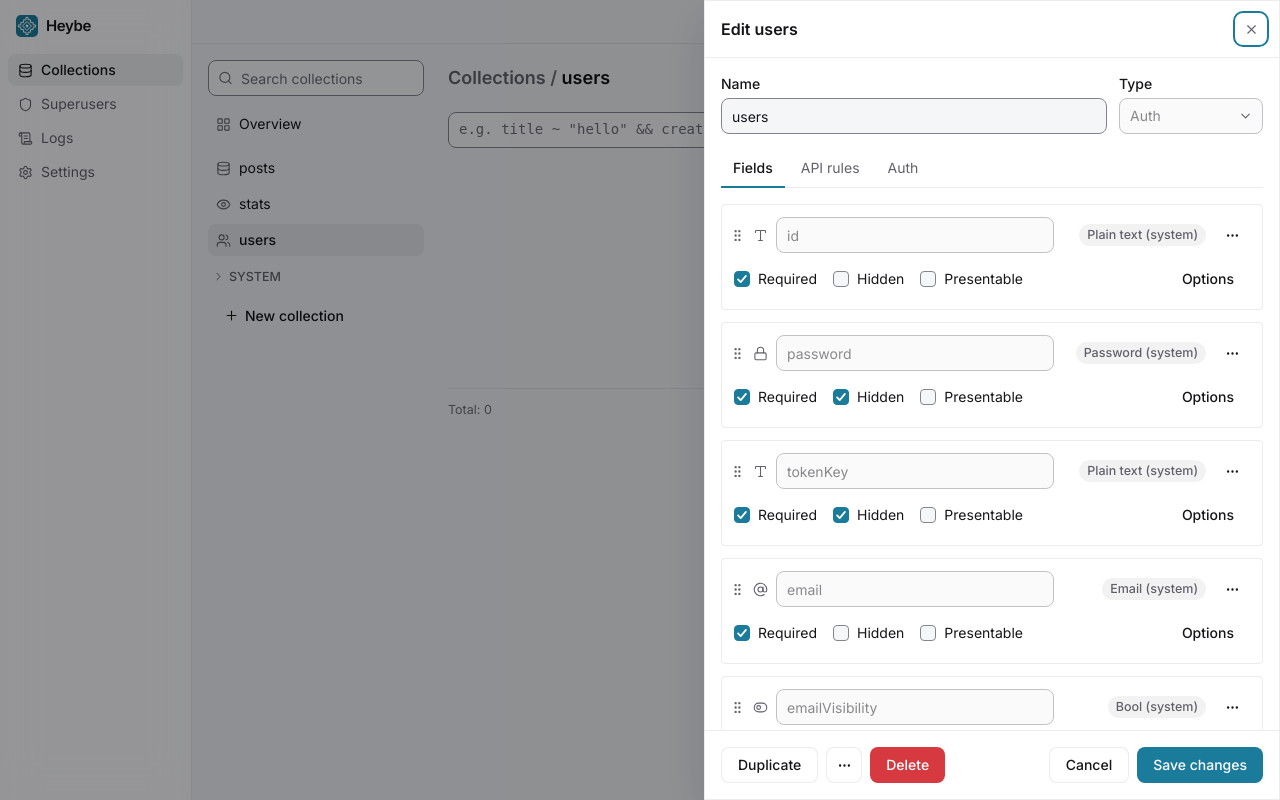
Scenario: editing a provider without typing a secret sends no clientSecret key
The width and height of the screenshot is (1280, 800).
Earlier steps of the test are not shown.
Later steps or results of the test are not shown.
Click the tab "Auth": (903, 169) [876, 150, 930, 188]
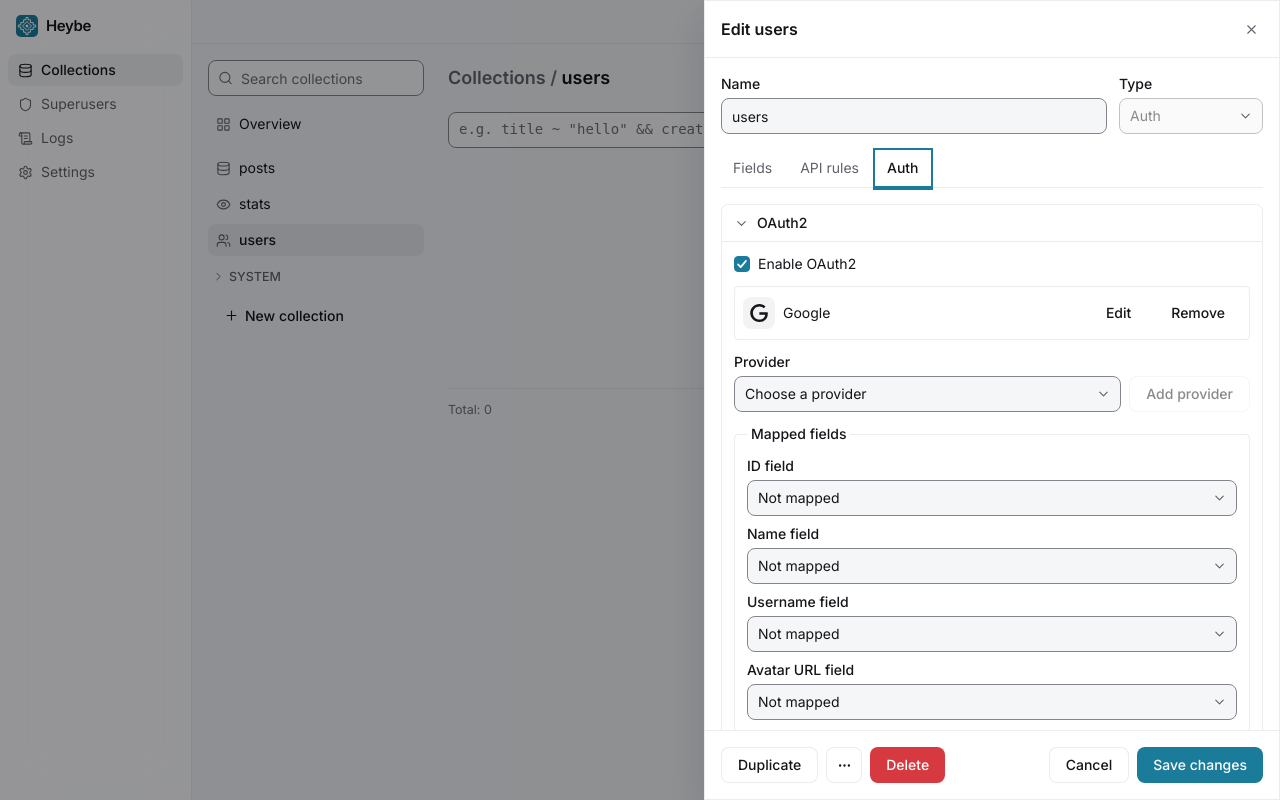
Click the button with aria-label "Edit provider Google": (1119, 313) [1090, 295, 1147, 331]
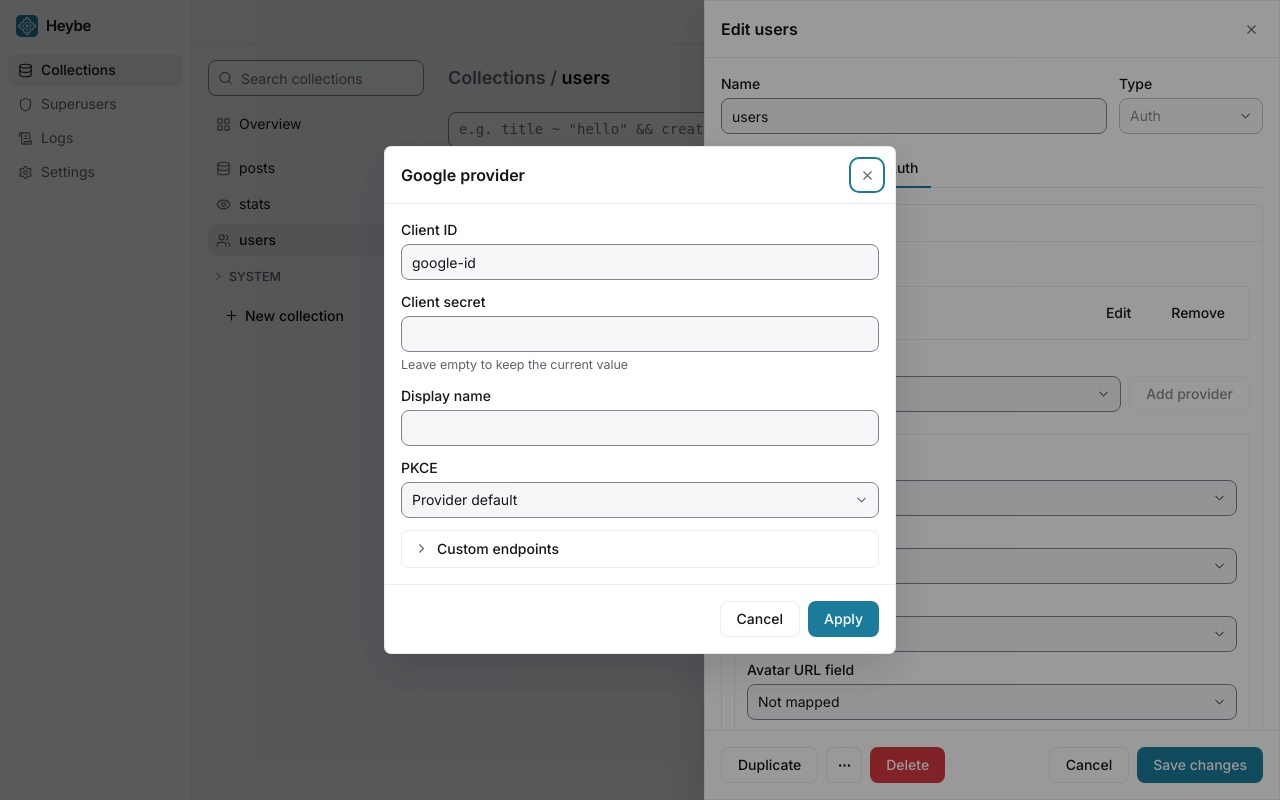
Check: the text "Leave empty to keep the current value" is shown, box [401, 357, 628, 372]
